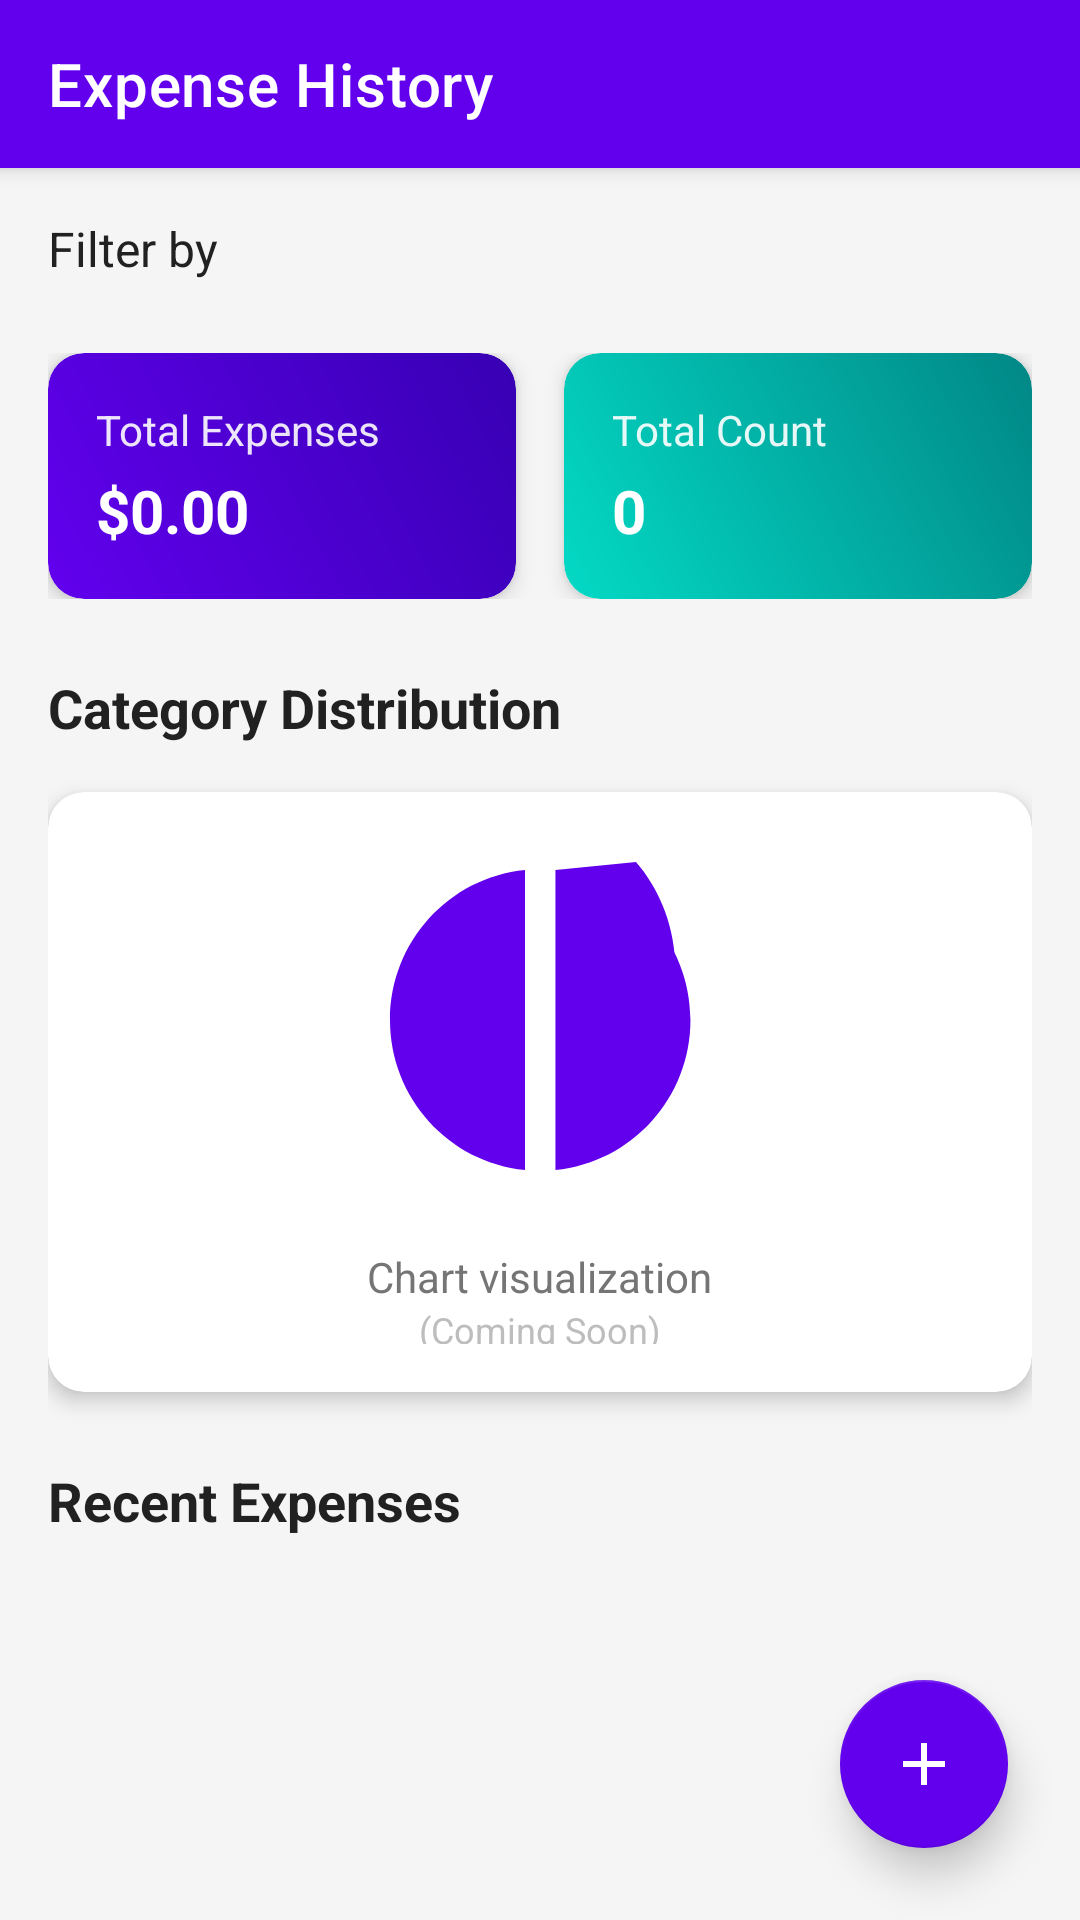

Icons on this 1080 x 1920 Android screen, each with the point to tap as [x,y]:
add: [924,1764]
pie chart: [540,1016]
